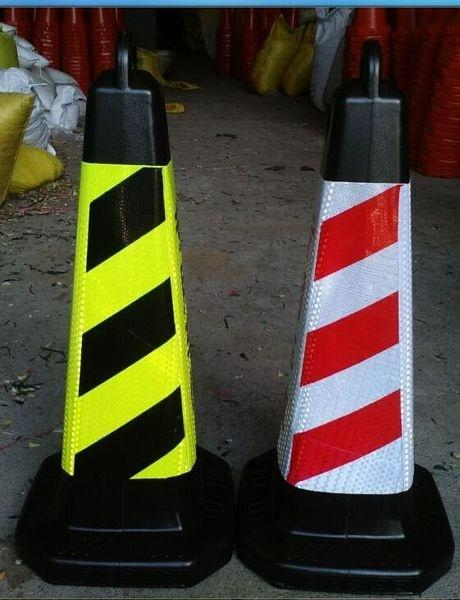cone_barrel: (27, 49, 226, 566), (250, 44, 438, 573)
